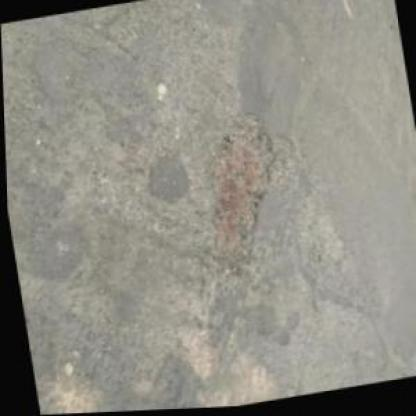pothole: (189, 110, 291, 272)
